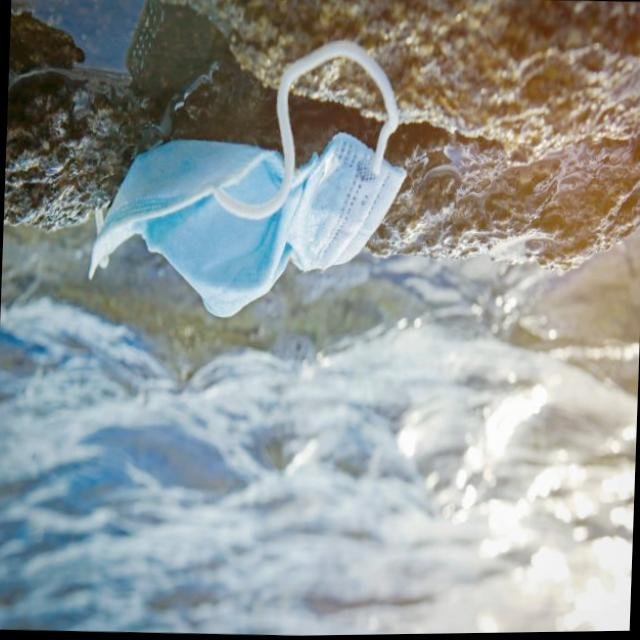Mask: (82, 26, 410, 329)
